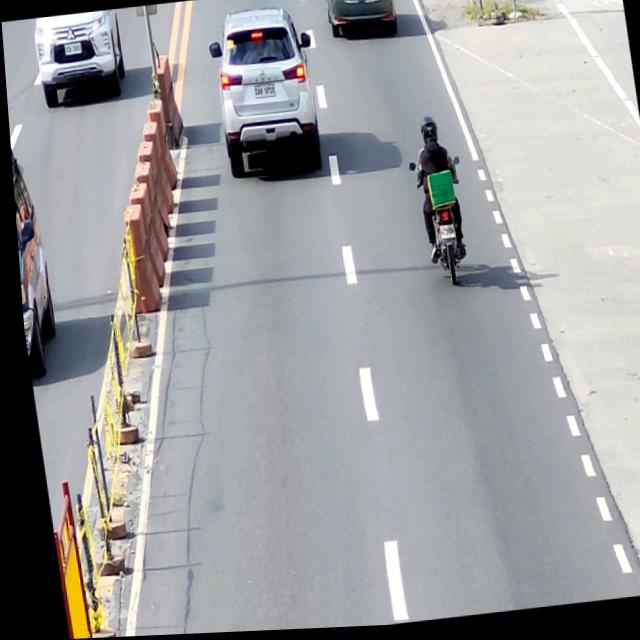Car: (202, 3, 328, 183), (8, 129, 58, 376), (30, 9, 128, 108), (322, 0, 398, 46)
License-Plate: (251, 85, 274, 100), (62, 42, 81, 56), (435, 228, 451, 243)
Motorcycle: (405, 159, 472, 293)
